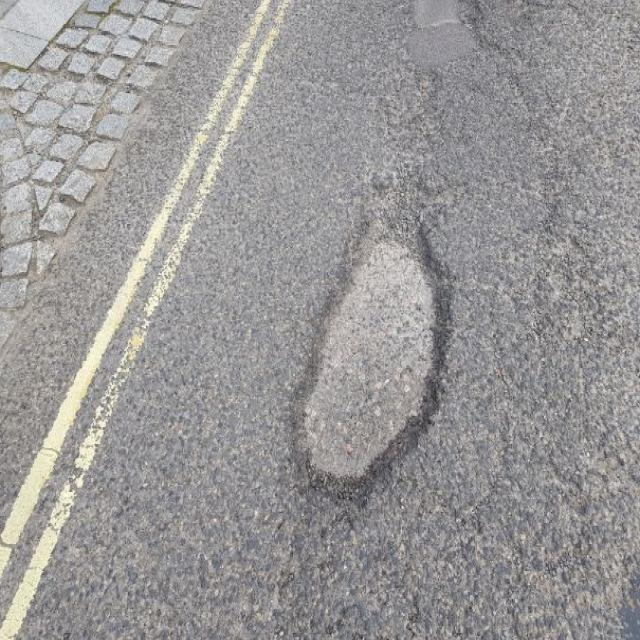Pothole: (285, 162, 461, 512)
